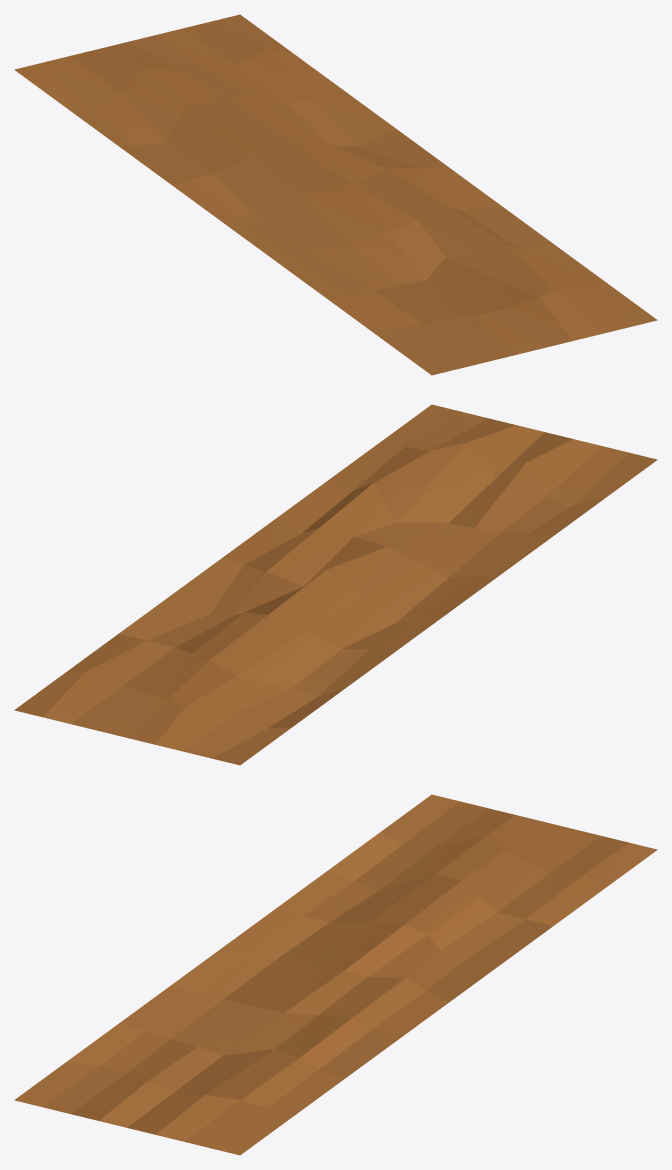
The model's file is cGround_C_Under_1__.obj.
The picture shows the model from 3 angles, top to bottom: view 1: azimuth 30°, elevation 25°; view 2: azimuth 150°, elevation 25°; view 3: azimuth 330°, elevation 25°; orthographic projection.
Visible parts, largest first — view 1: cGround_C_Under_1__; view 2: cGround_C_Under_1__; view 3: cGround_C_Under_1__.
Boxes of the visible parts, x1,y1,x2,y2 form: cGround_C_Under_1__: (14,14,657,375); cGround_C_Under_1__: (14,404,657,765); cGround_C_Under_1__: (14,794,657,1155).
Size of the model in its own units: 10 by 0.9464 by 32.
